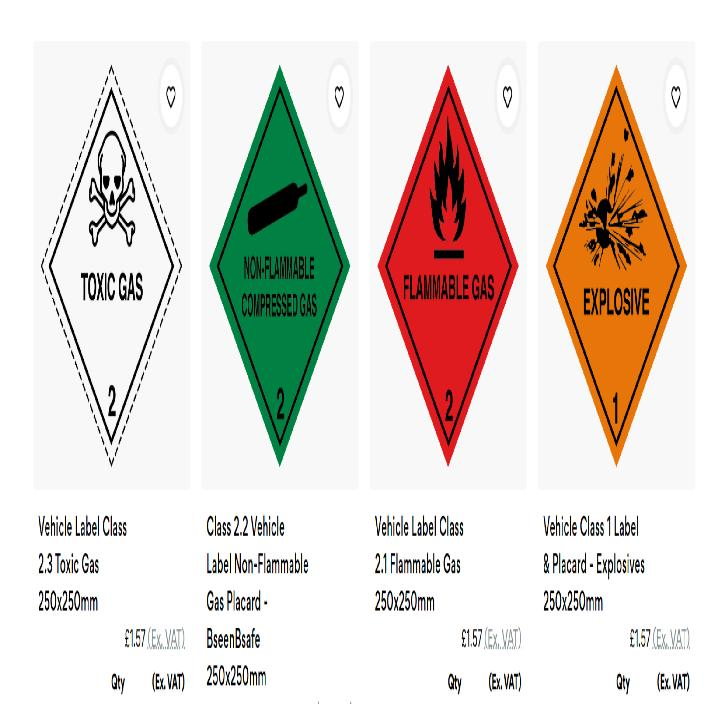bathroom sign: (546, 67, 686, 464)
bench: (378, 67, 517, 464)
building map: (211, 67, 349, 464)
camera: (41, 66, 179, 464)
